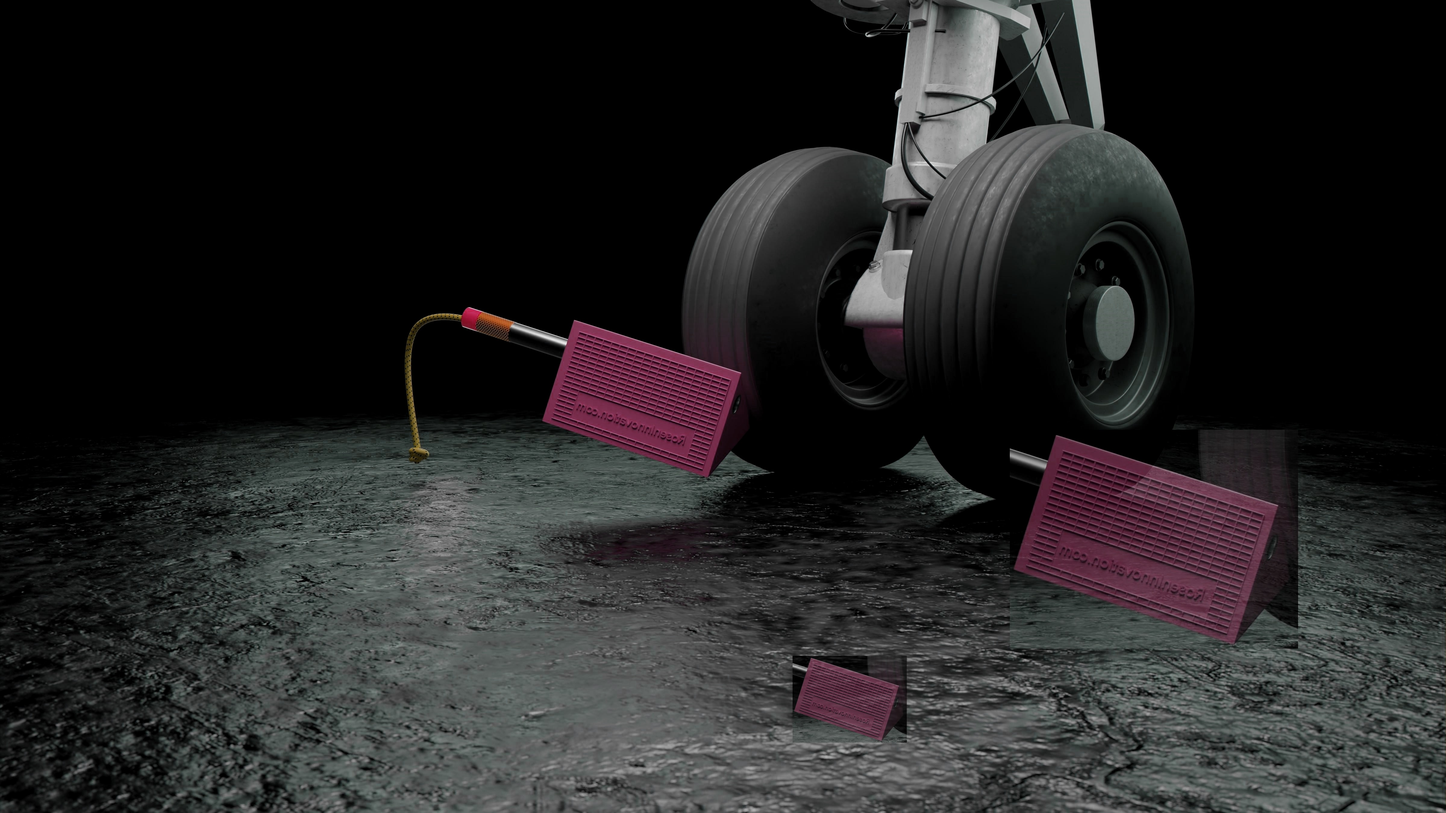chock: (1010, 430, 1298, 649), (539, 316, 756, 481), (793, 656, 907, 743)
wheel: (904, 120, 1200, 508), (682, 142, 935, 479)
